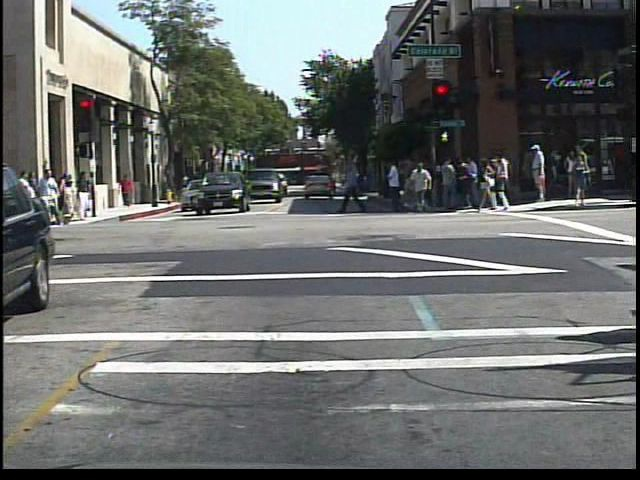person: (525, 145, 552, 207), (35, 168, 60, 232), (0, 171, 21, 225), (118, 172, 136, 210)
